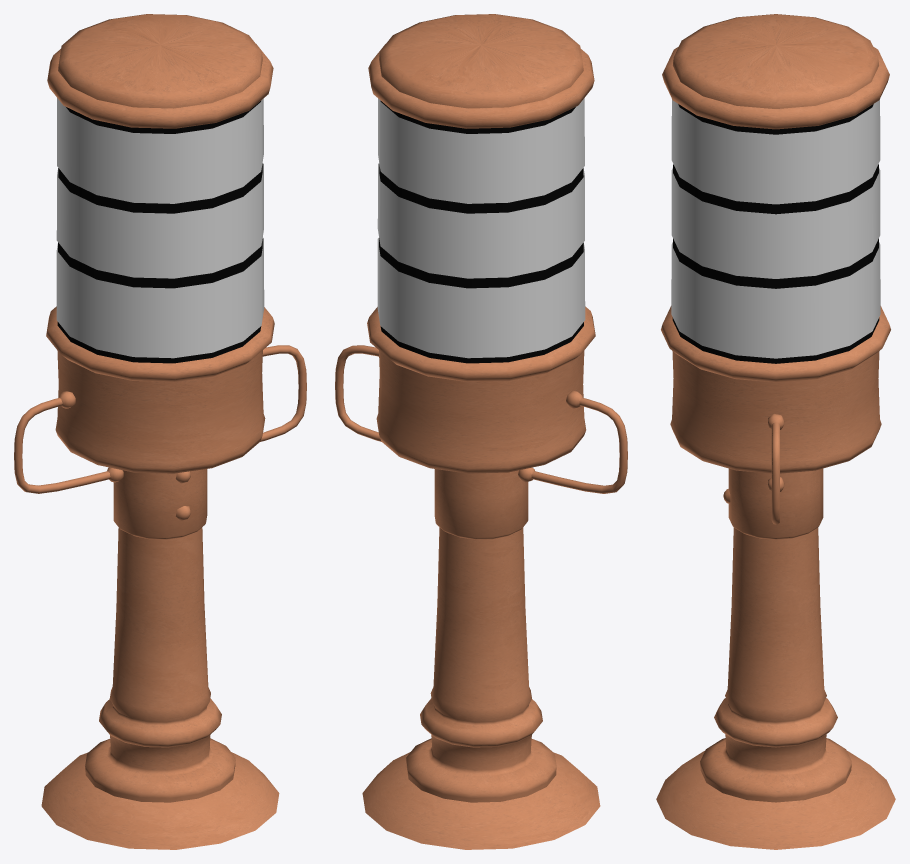
The model's file is GroundShaker.fbx.
3 renders of one model, left to right at view 1: azimuth 30°, elevation 25°; view 2: azimuth 150°, elevation 25°; view 3: azimuth 270°, elevation 25°, orthographic.
Parts seen in each view (by area): view 1: BézierCurve; view 2: BézierCurve; view 3: BézierCurve.
Part boxes in pixels (x1,y1,x2,y2): BézierCurve: (14,14,306,849); BézierCurve: (335,14,627,849); BézierCurve: (656,14,895,849).
Size of the model in its own units: 234 by 579 by 167.
